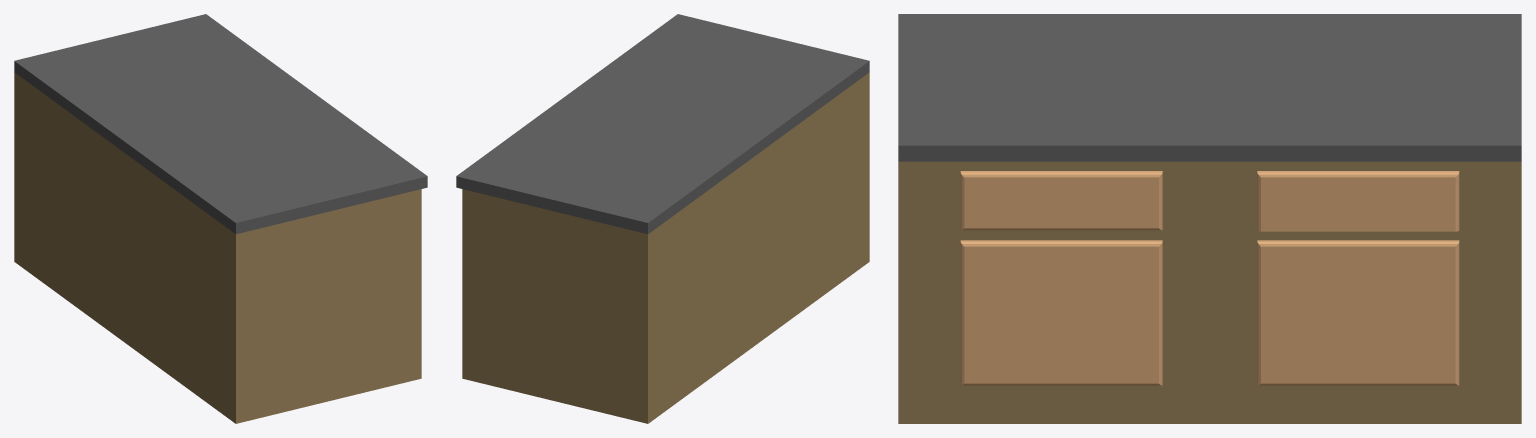
The model's file is lower_cabinets.fbx.
3 renders of one model, left to right at view 1: azimuth 30°, elevation 25°; view 2: azimuth 150°, elevation 25°; view 3: azimuth 270°, elevation 25°, orthographic. The views are drawn at different scales.
Parts seen in each view (by area): view 1: Cube; view 2: Cube; view 3: Cube.
Part boxes in pixels (x1,y1,x2,y2): Cube: (14, 14, 427, 423); Cube: (456, 14, 869, 423); Cube: (898, 14, 1521, 423).
Bounding box in the file's own units: 99.98 × 100 × 200.
